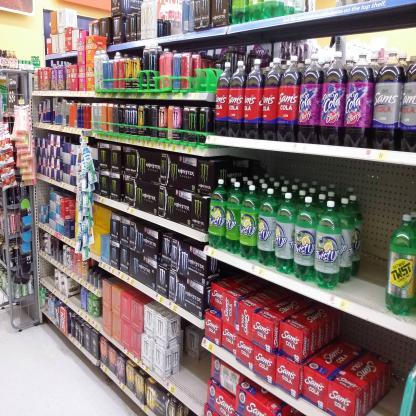Void: (332, 317, 408, 372), (360, 174, 386, 302), (176, 322, 208, 396)
